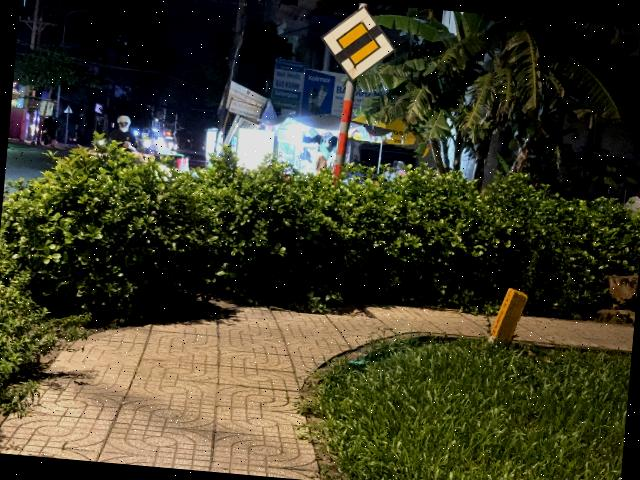het-duong-uu-tien: (316, 2, 400, 85)
